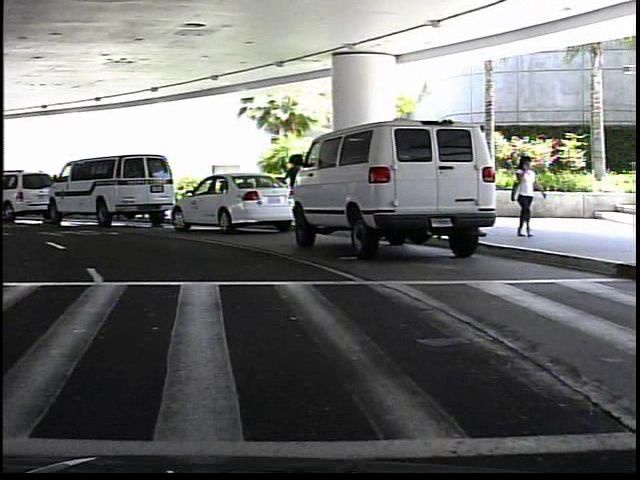person: (505, 148, 544, 243)
